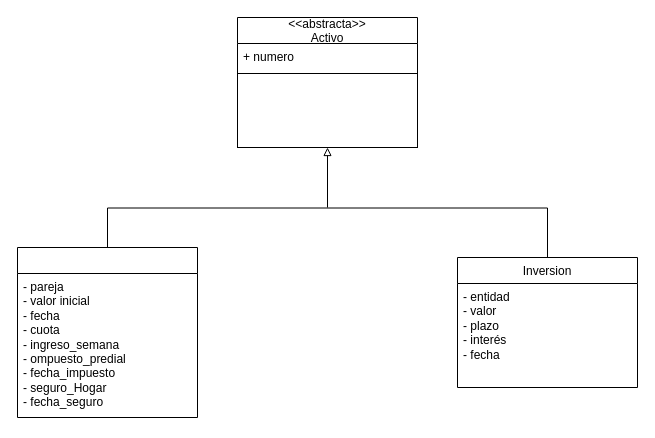
This 655x438 diagram has some shape labels left out. The shapes that lost their labels are listed below. From the top down, each one's box as (x1, y1, x2, y2) in pixels, then its label:
(236, 72, 418, 148): + Crear () + Eliminar () + Modificar () + Consultar ()
(16, 246, 198, 418): Hipoteca
